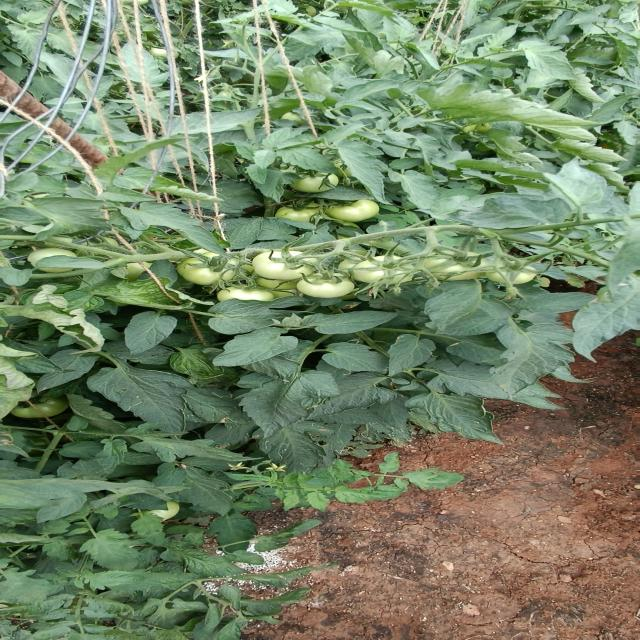Healthy Leaf: (124, 198, 239, 256), (96, 369, 198, 433), (234, 370, 334, 434), (327, 140, 412, 209), (410, 395, 514, 449), (491, 326, 562, 400), (160, 458, 236, 516), (201, 325, 300, 367), (115, 309, 182, 357), (75, 529, 146, 574), (304, 308, 399, 335), (380, 334, 433, 381), (522, 292, 599, 314), (219, 586, 251, 612)
